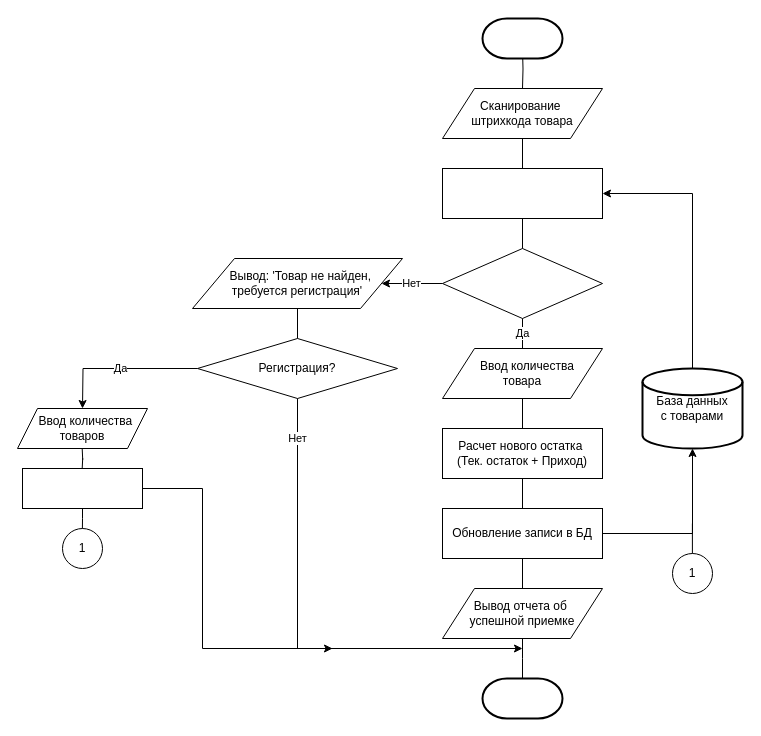
The diagram is 761 pixels wide and 736 high, and some of its shapes have lost their labels. Each missing label, with the box of its shape:
Конец: (481, 677, 563, 719)
Начало: (481, 17, 563, 59)
Поиск товара в БД по штрихкоду: (442, 168, 602, 218)
Регистрация нового товара в БЗ: (22, 468, 142, 508)
Товар найден?: (442, 248, 602, 318)
